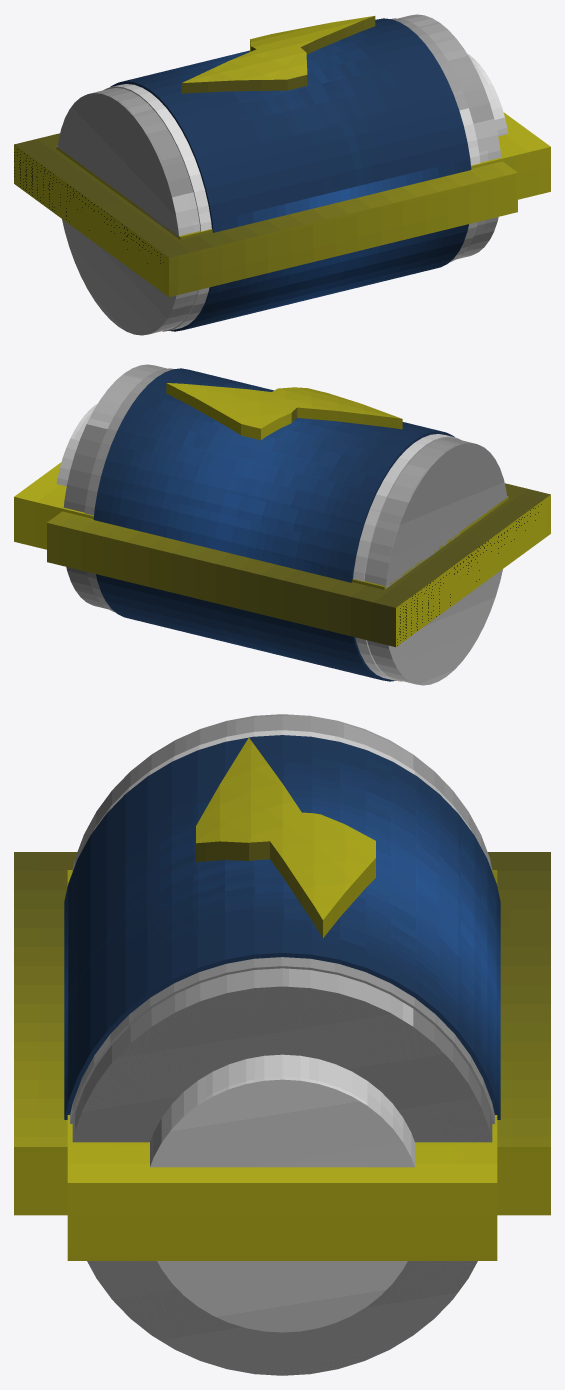
The model's file is Battery.obj.
3 renders of one model, top to bottom at view 1: azimuth 30°, elevation 25°; view 2: azimuth 150°, elevation 25°; view 3: azimuth 270°, elevation 25°, orthographic. The views are drawn at different scales.
Visible parts, largest first — view 1: Battery; view 2: Battery; view 3: Battery.
Part boxes in pixels (<box>): Battery: <box>14,14,550,335</box>; Battery: <box>14,364,550,685</box>; Battery: <box>14,714,550,1375</box>.
Bounding box in the file's own units: 4.44 × 2.59 × 3.
